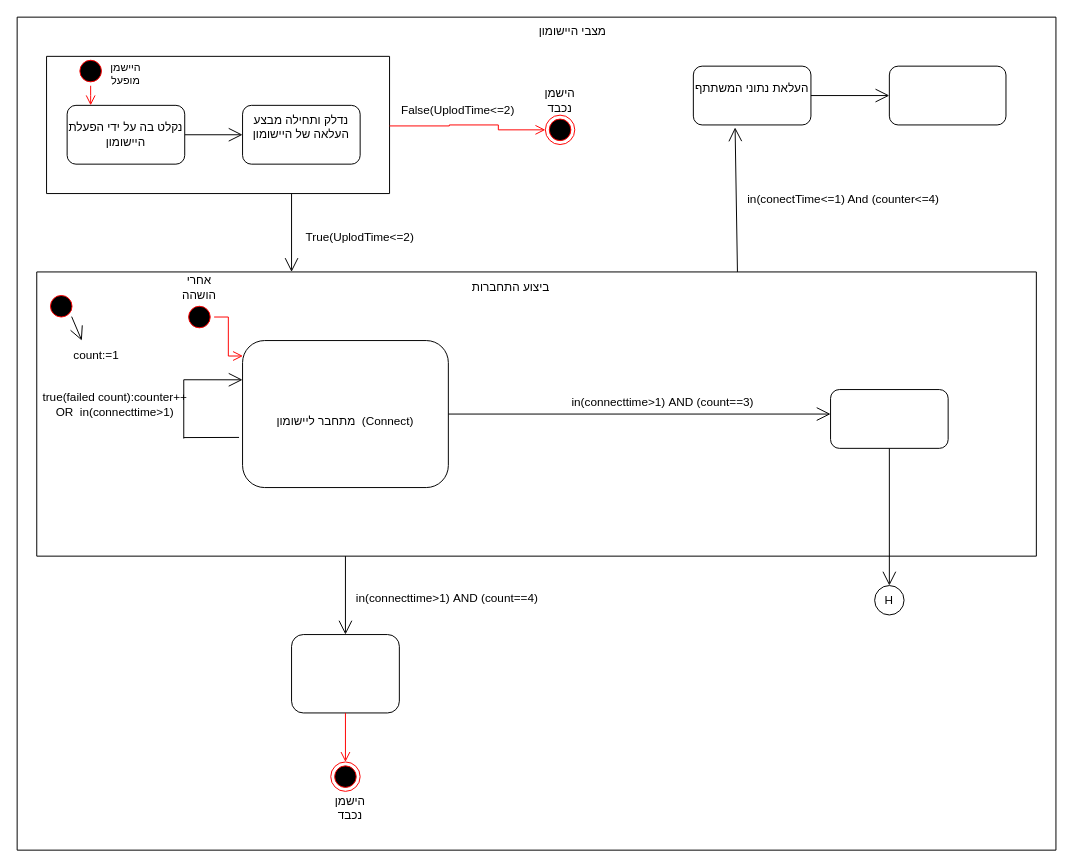
This 1074x868 diagram has some shape labels left out. Each missing label, with the centre of its shape:
"החשבון נחסם" goes at pixel 345 673.
"היישומון מוכן לפעולה ומחכה לפקודה" goes at pixel 947 95.
"התחברות הושהה" goes at pixel 889 418.
